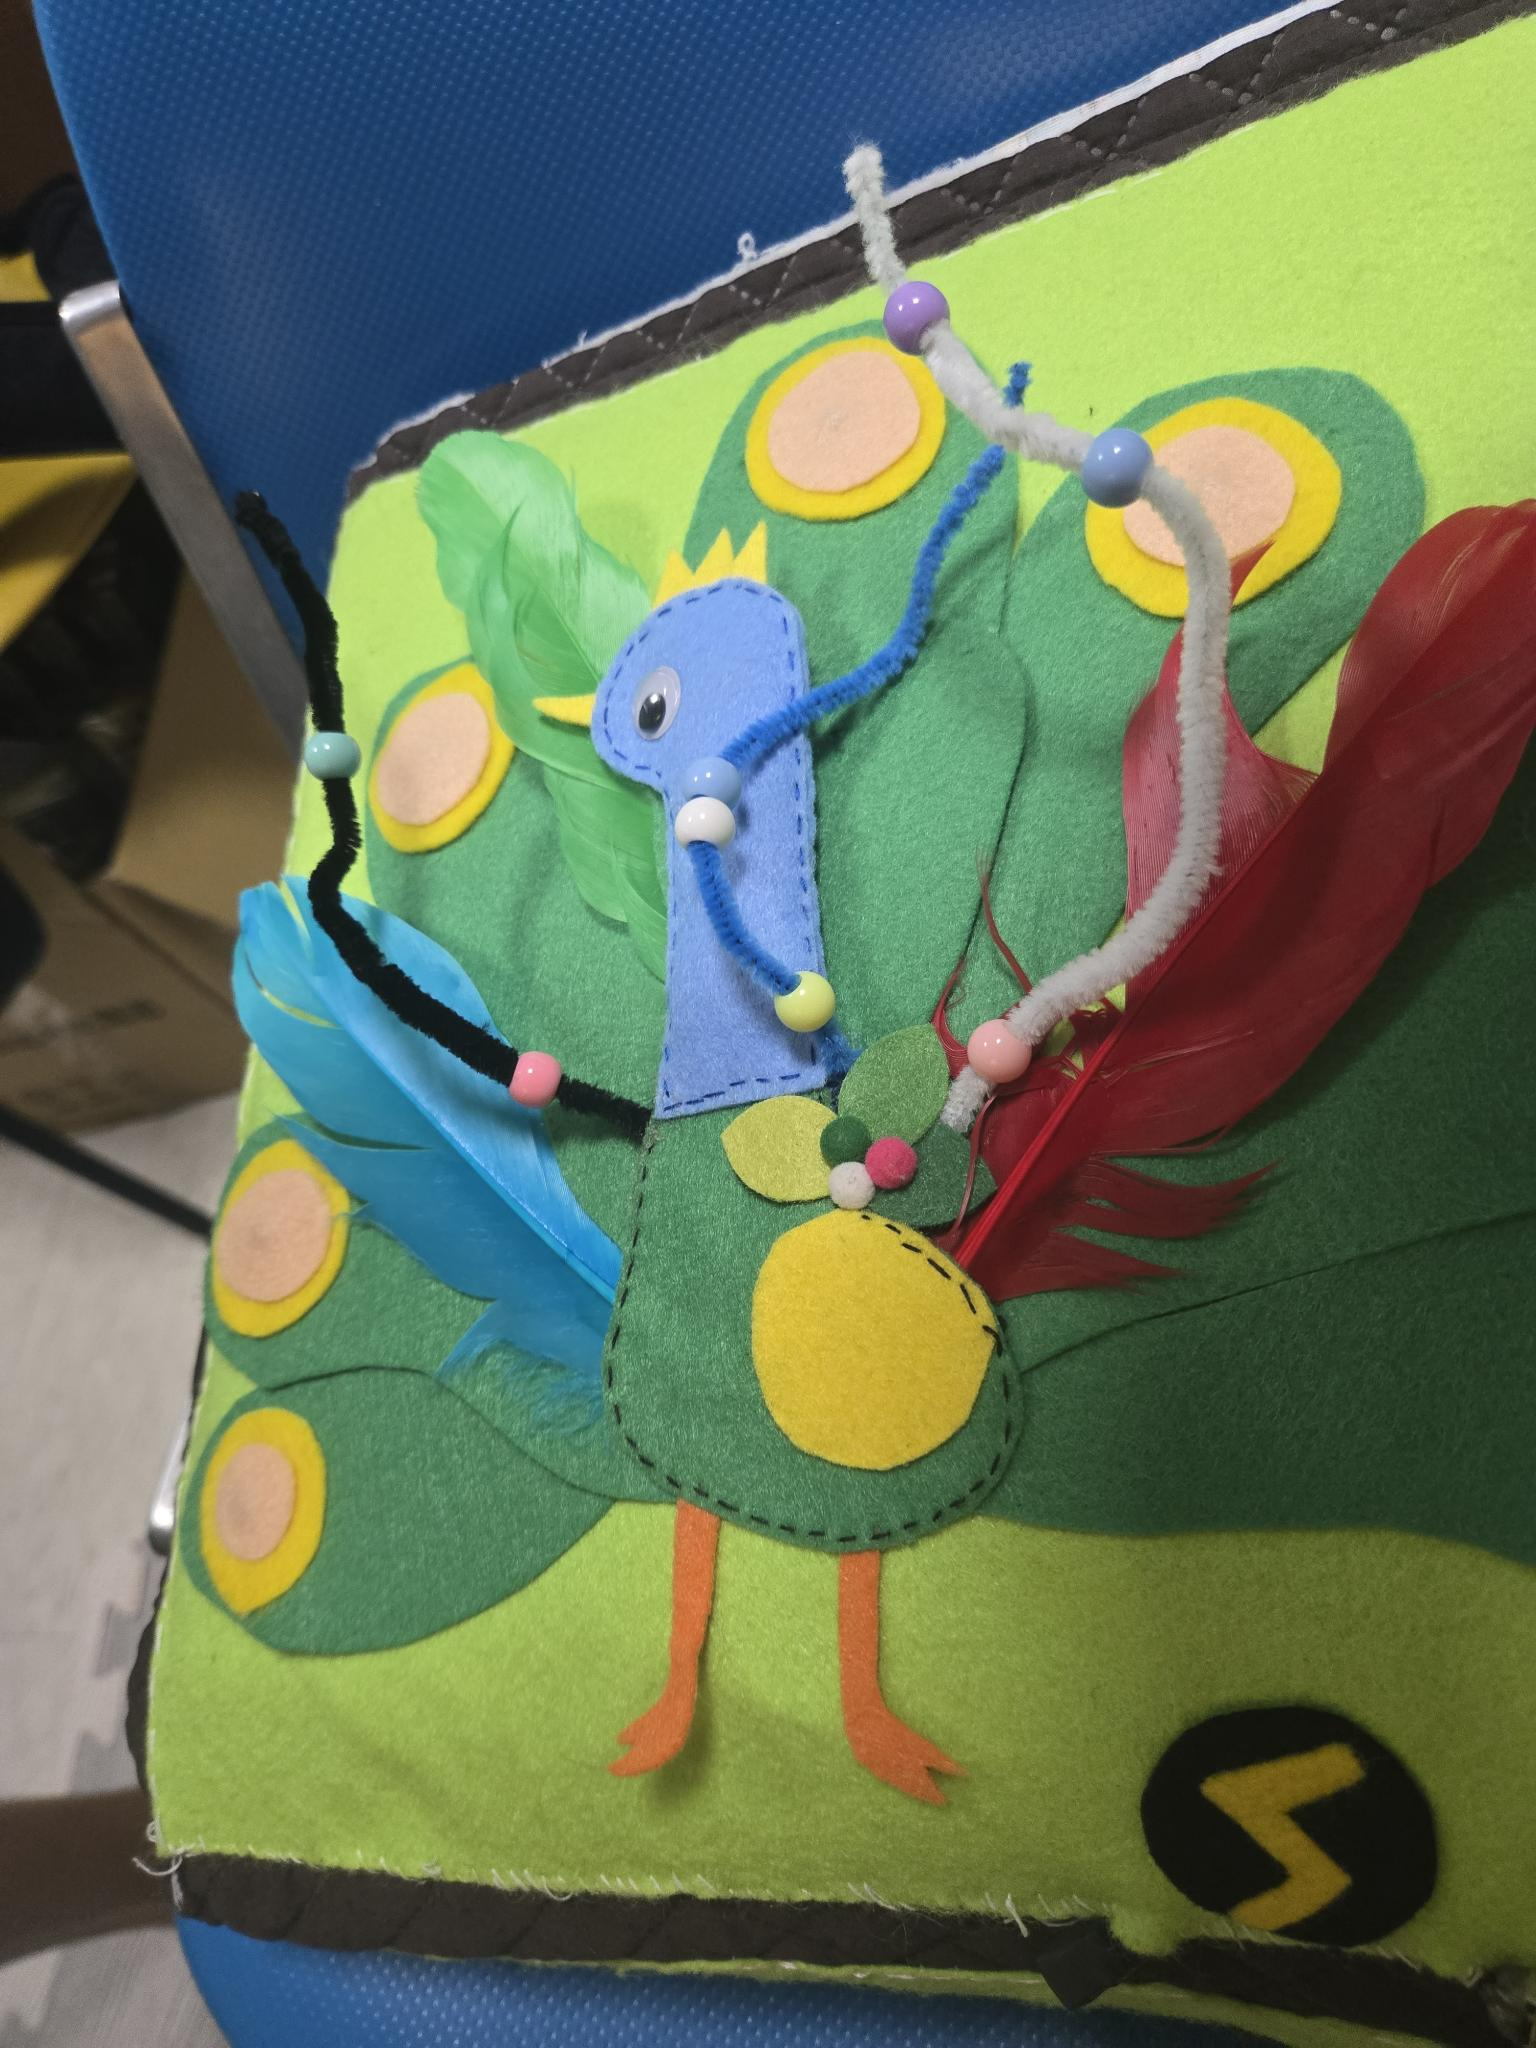bead: (1075, 421, 1165, 519), (758, 969, 858, 1047), (876, 268, 960, 358), (502, 1035, 563, 1137), (666, 790, 757, 858), (952, 1014, 1037, 1084), (297, 713, 371, 789), (681, 743, 739, 813)
